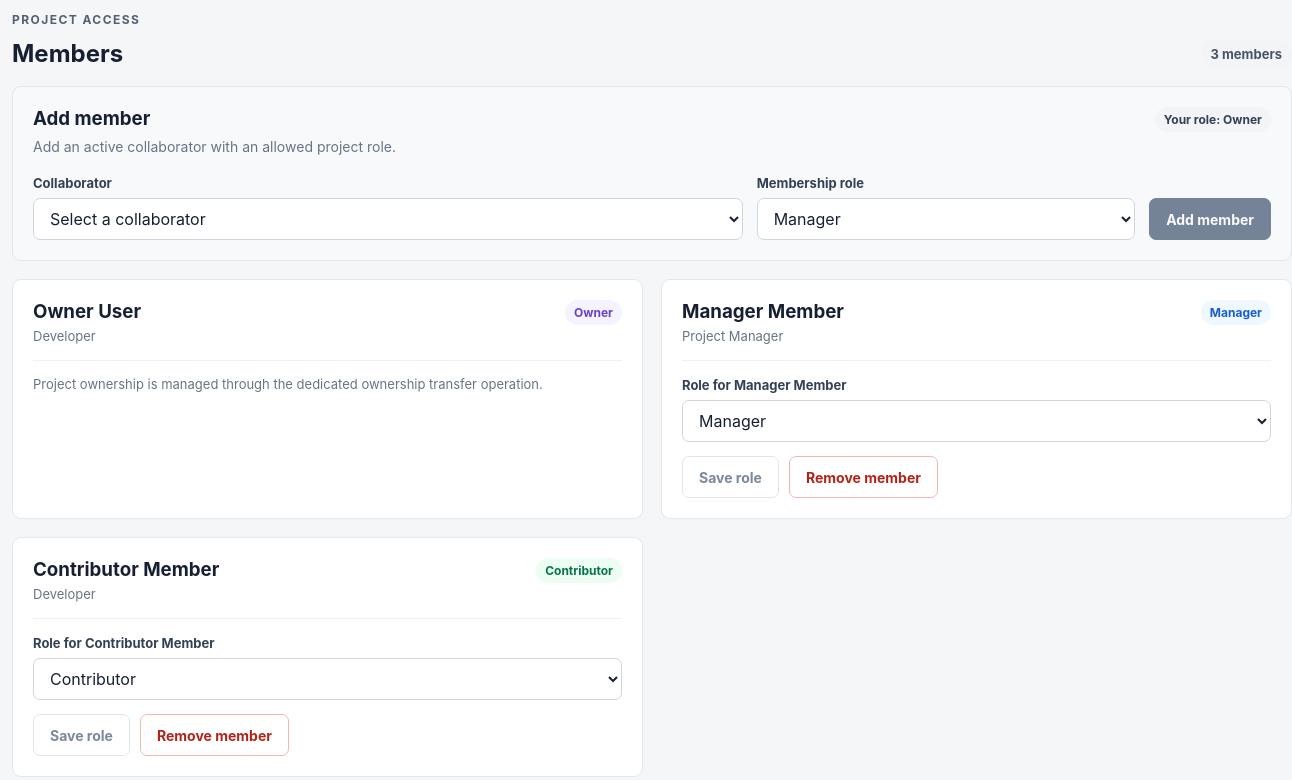
Test case: ProjectMembersPanel › shows a conflict message without repeating refresh instructions
Expected: the element "Contributor Member" is shown, [12,537,643,777]
Select "Viewer" in the dropdown labelled "Role for Contributor Member" at point(328, 679), box [33,658,622,700]
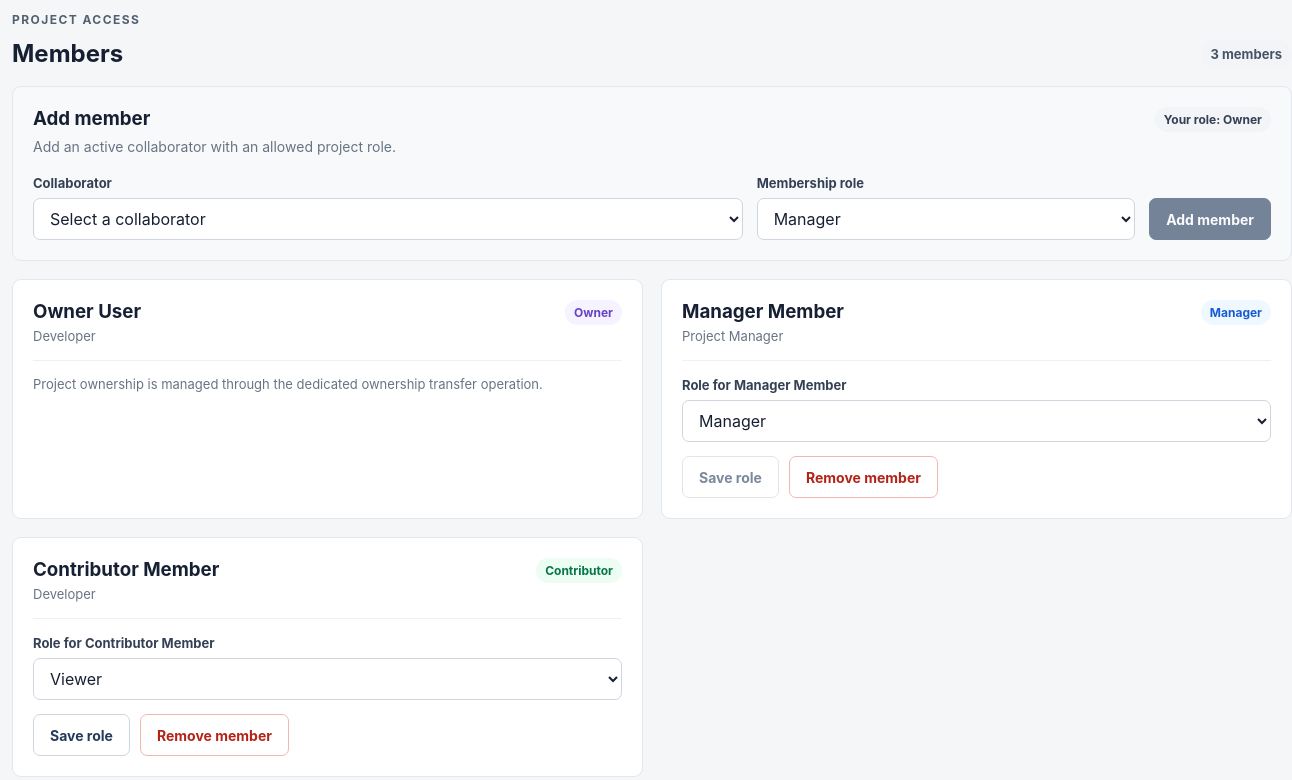
Click the 2nd button "Save role" at point(81, 735), box [33,714,130,756]
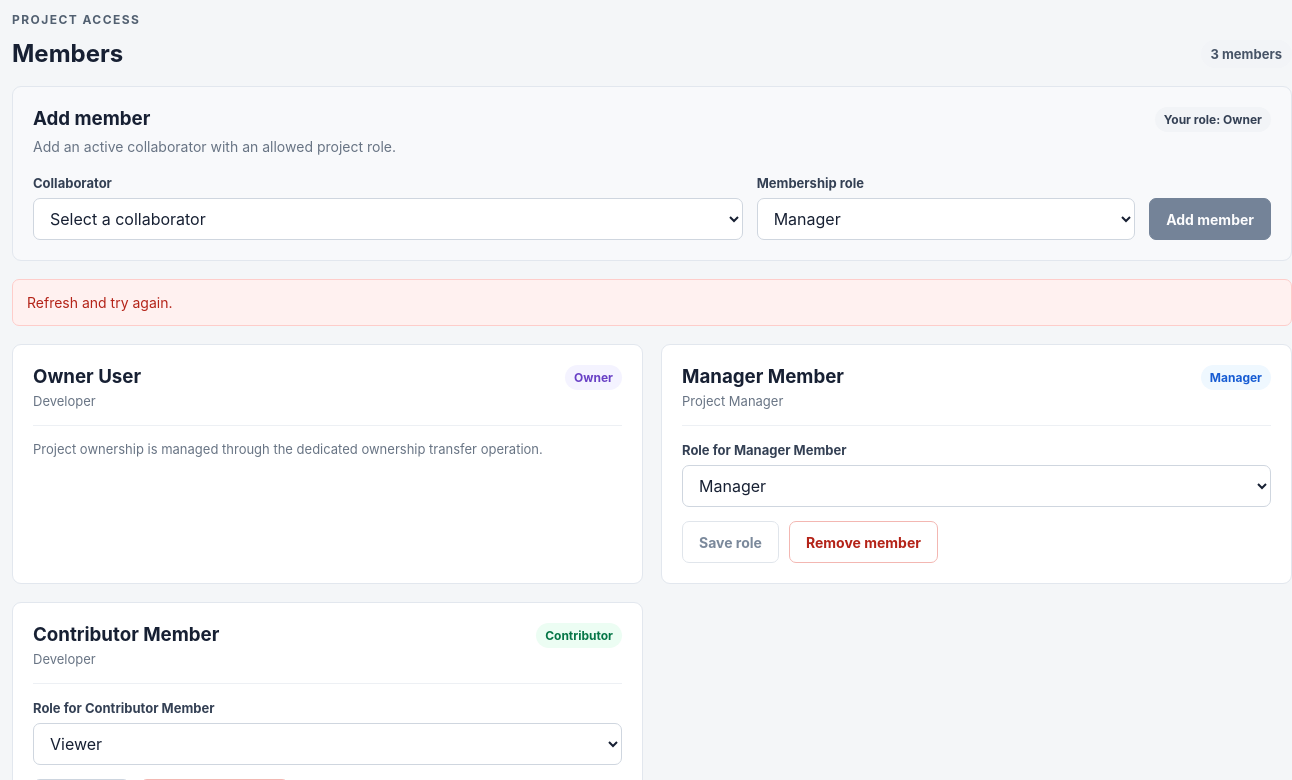
Expected: the message reads "Refresh and try again.", [27,294,172,311]
